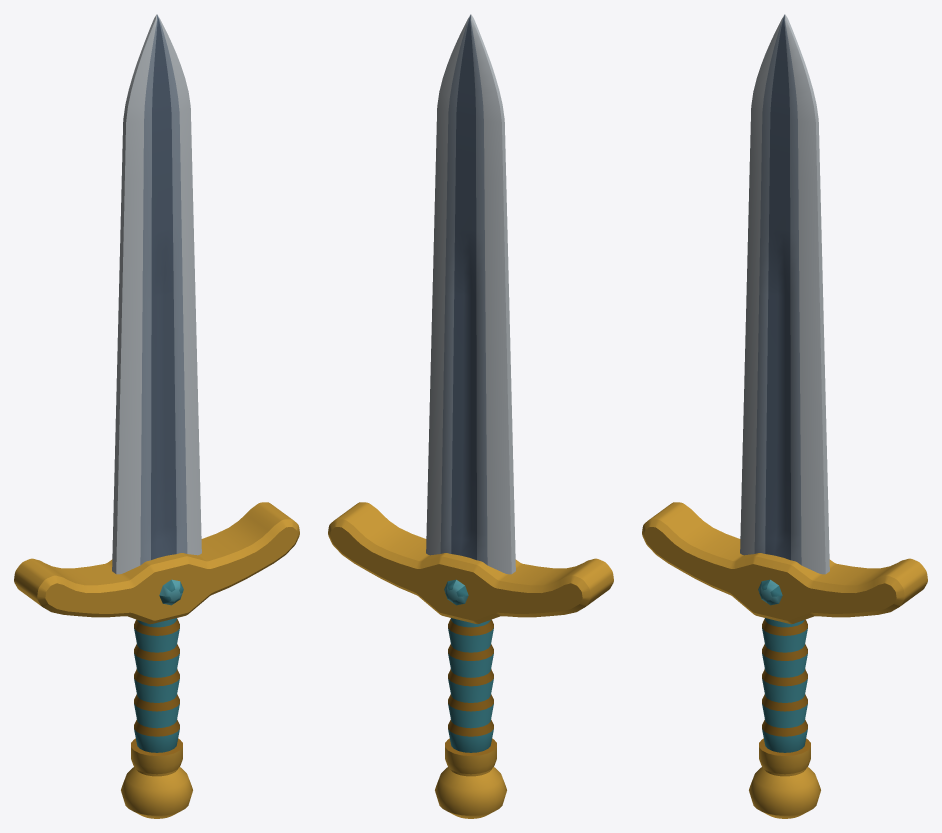
The model's file is Longsword_17.glb.
3 views of the same model, side by side, from view 1: azimuth 30°, elevation 25°; view 2: azimuth 150°, elevation 25°; view 3: azimuth 330°, elevation 25° (orthographic).
Visible parts, largest first — view 1: Longsword_17; view 2: Longsword_17; view 3: Longsword_17.
Boxes of the visible parts, bbox=[...] form: Longsword_17: bbox=[14, 14, 299, 818]; Longsword_17: bbox=[328, 14, 613, 818]; Longsword_17: bbox=[642, 14, 927, 818].
Size of the model in its own units: 2.29 by 6.64 by 0.5528.
